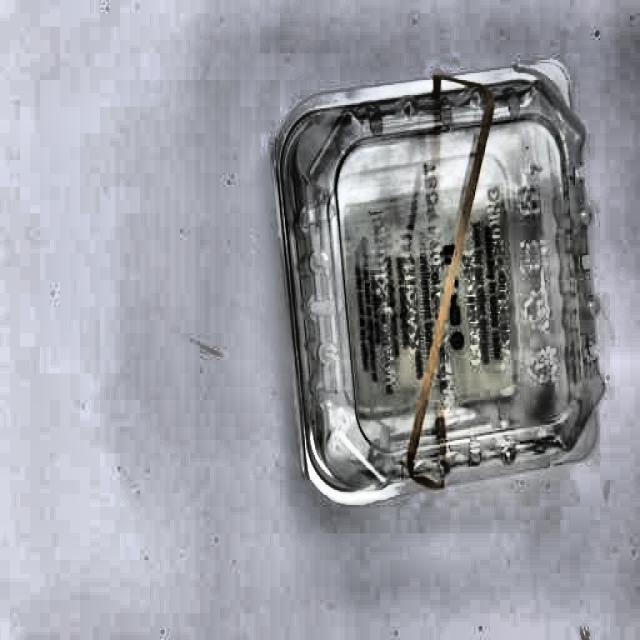plastic: (275, 82, 608, 495)
